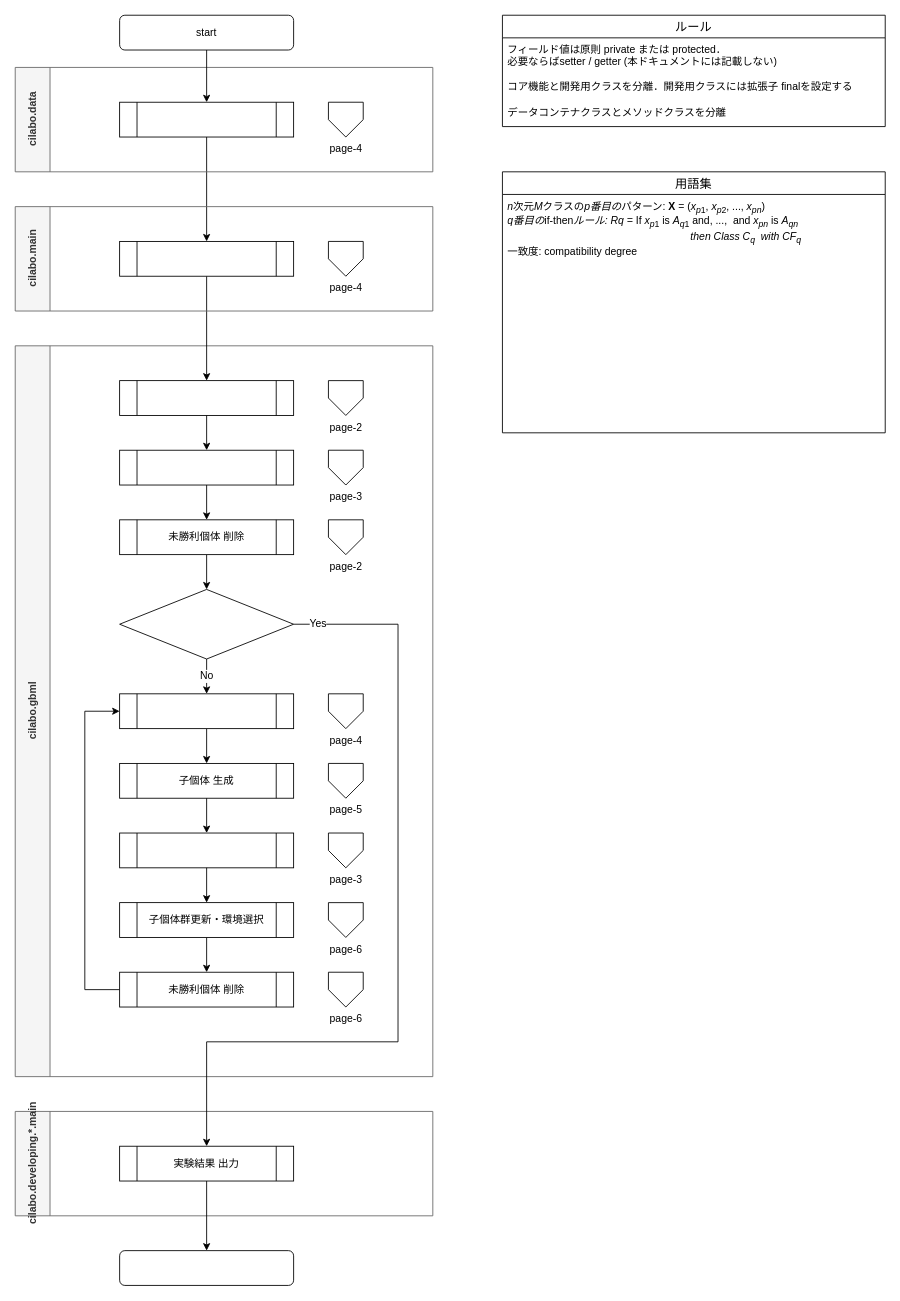
Some shapes in this 900 by 1301 pixel diagram are drawn without their labels. The shapes that lost their labels are listed below. From the top down, each one's centre as x and y in pixels, then its label:
At (206,119): "データセット取得".
At (206,258): "最適化問題 条件初期化".
At (206,397): "初期個体群 生成".
At (206,467): "初期個体群 評価".
At (206,624): "世代数が終了条件を満たすか".
At (206,711): "親個体 選択".
At (206,850): "子個体群 評価".
At (206,1267): "end".
